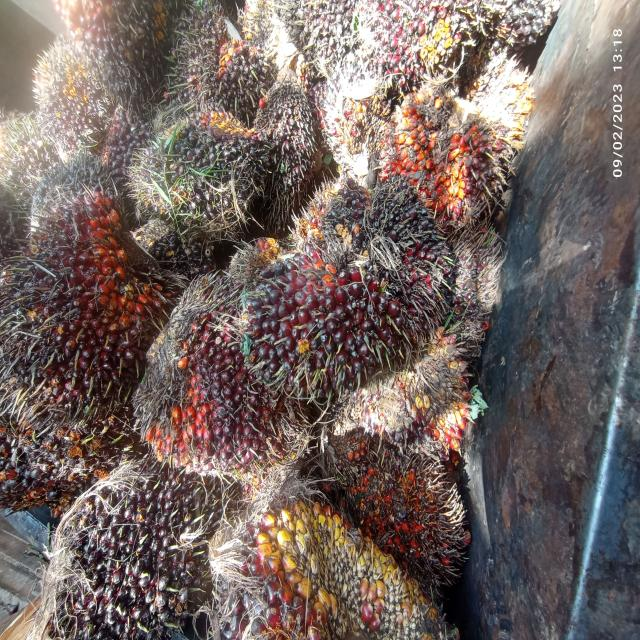fraksi 00: (5, 447, 241, 640), (145, 75, 325, 275), (318, 169, 453, 278), (184, 25, 274, 103)
fraksi 1: (228, 218, 409, 430), (0, 197, 185, 397), (126, 286, 269, 480)
fraksi 3: (387, 70, 544, 232)
fraksi 4: (332, 419, 476, 605)
